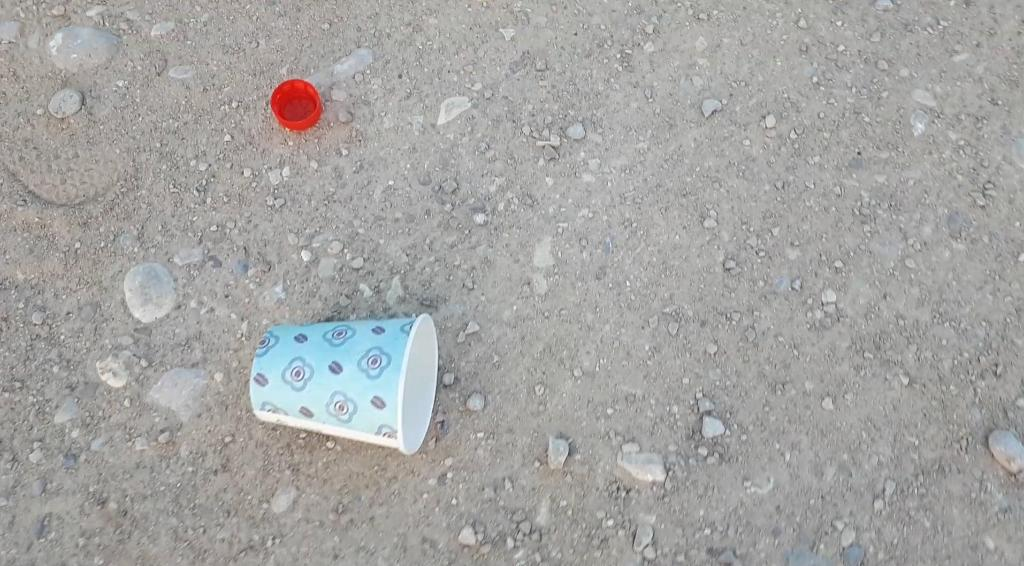garbage: (240, 309, 463, 456)
